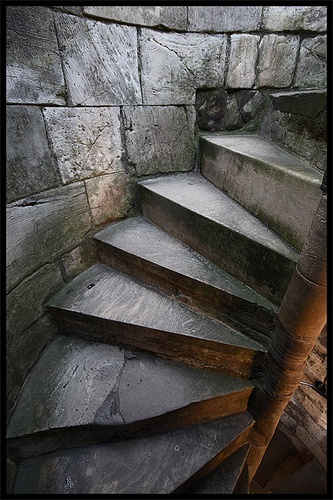stairs_up: (16, 163, 307, 500)
